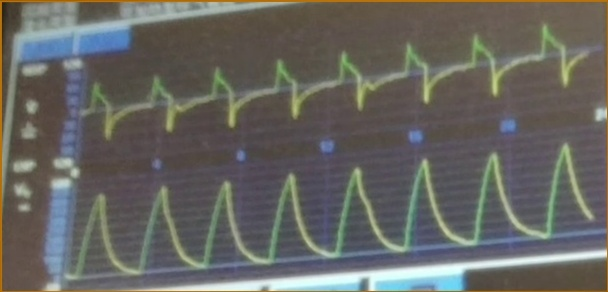Premature_cycling Flow: (81, 24, 584, 137)
Premature_cycling Volume: (78, 143, 590, 278)
